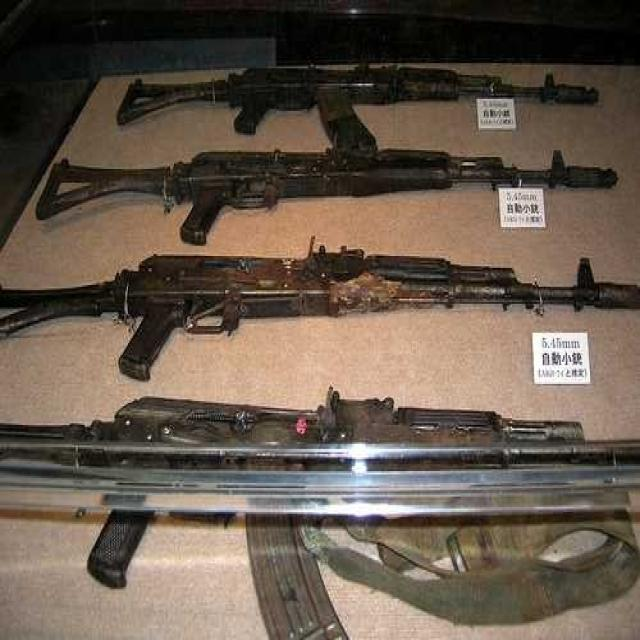Rifle: (1, 245, 640, 374)
